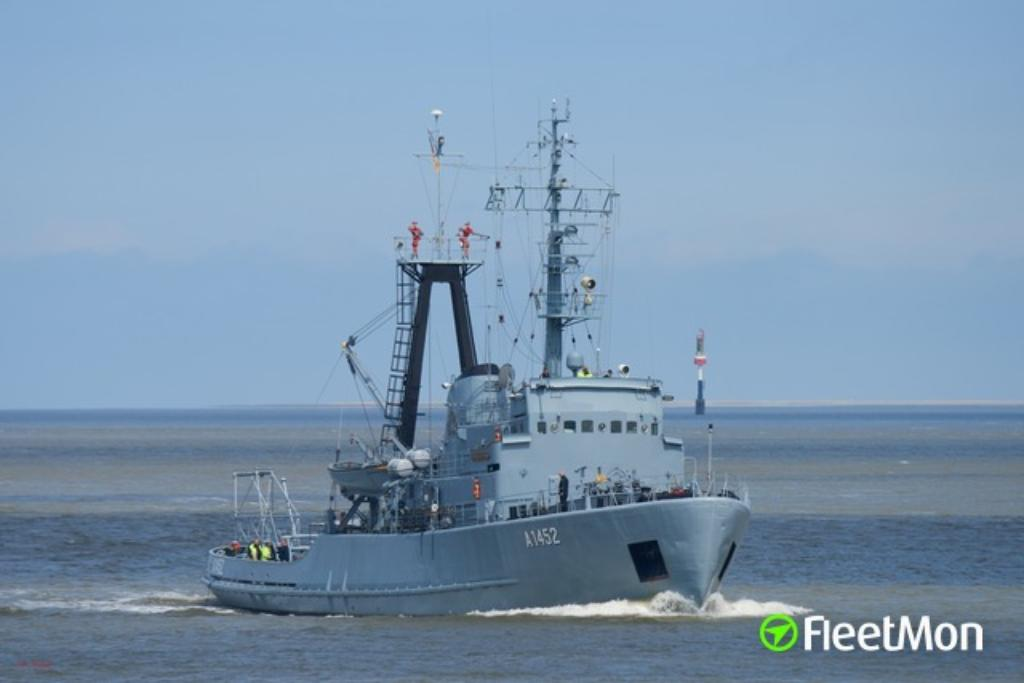Warship: (204, 96, 756, 620)
